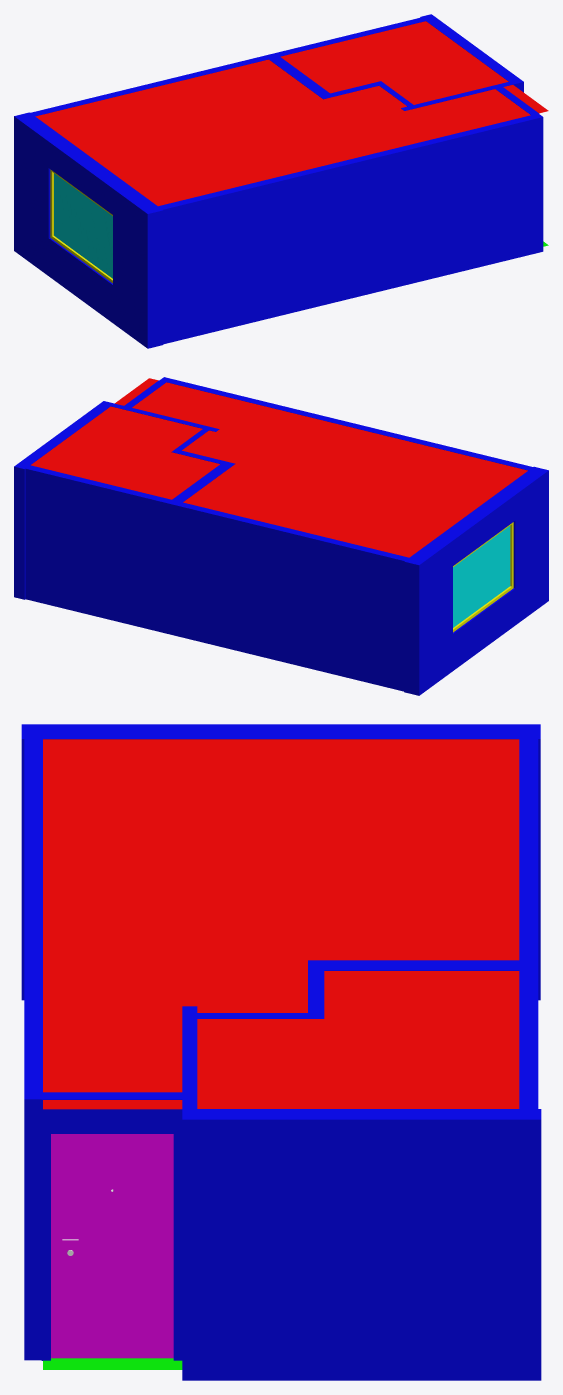
The model's file is room.fbx.
3 views of the same model, one above another, from view 1: azimuth 30°, elevation 25°; view 2: azimuth 150°, elevation 25°; view 3: azimuth 270°, elevation 25° (orthographic). The views are drawn at different scales.
Parts seen in each view (by area): view 1: Wall (Left), Ceiling, Wall (Back), Window, Wall (Right), Bathroom Wall (Front), Window Frame, Bathroom Wall (Back), Bathroom Wall (Left 1); view 2: Wall (Right), Ceiling, Wall (Back), Window, Bathroom Wall (Front), Wall (Left), Window Frame, Bathroom Wall (Back), Bathroom Wall (Left 1); view 3: Ceiling, Bathroom Wall (Front), Door, Wall (Left), Wall (Back), Wall (Front), Wall (Right), Bathroom Wall (Back), Bathroom Wall (Left 1), Floor, Bathroom Wall (Left 2).
Part boxes in pixels (box(x1,y1,x2,y2)): Wall (Left): box(158, 113, 543, 344); Ceiling: box(35, 21, 548, 206); Wall (Back): box(14, 112, 163, 348); Window: box(54, 173, 112, 278); Wall (Right): box(30, 17, 425, 116); Bathroom Wall (Front): box(420, 14, 523, 92); Window Frame: box(50, 169, 112, 283); Bathroom Wall (Back): box(269, 56, 333, 99); Bathroom Wall (Left 1): box(401, 82, 512, 110); Wall (Right): box(25, 465, 409, 691); Ceiling: box(31, 378, 527, 557); Wall (Back): box(404, 466, 548, 695); Window: box(453, 526, 510, 627); Bathroom Wall (Front): box(14, 401, 114, 599); Wall (Left): box(160, 377, 532, 470); Window Frame: box(453, 522, 513, 632); Bathroom Wall (Back): box(172, 461, 235, 502); Bathroom Wall (Left 1): box(111, 403, 219, 431); Ceiling: box(43, 739, 519, 1109); Bathroom Wall (Front): box(182, 1109, 541, 1380); Door: box(51, 1134, 173, 1358); Wall (Left): box(24, 739, 42, 1360); Wall (Back): box(21, 724, 540, 1000); Wall (Front): box(41, 1092, 182, 1360); Wall (Right): box(519, 738, 538, 1109); Bathroom Wall (Back): box(308, 960, 519, 970); Bathroom Wall (Left 1): box(182, 1006, 197, 1108); Floor: box(43, 1358, 182, 1369); Bathroom Wall (Left 2): box(308, 970, 324, 1018).
Bounding box in the file's own units: 1496 × 461 × 831.
